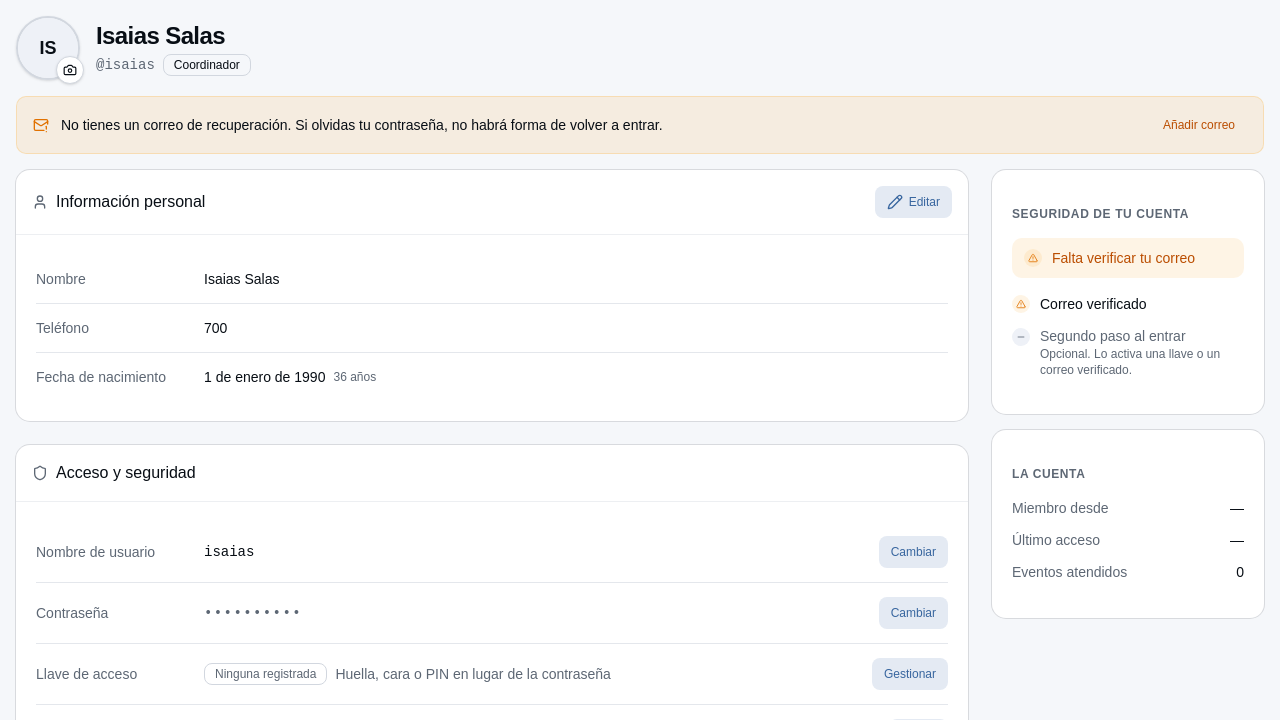
Scenario: changing your own password from the profile page › sends the current password with the new one
Click the button with aria-label "cambiar contraseña". click: click(913, 613)
box: [879, 597, 948, 629]
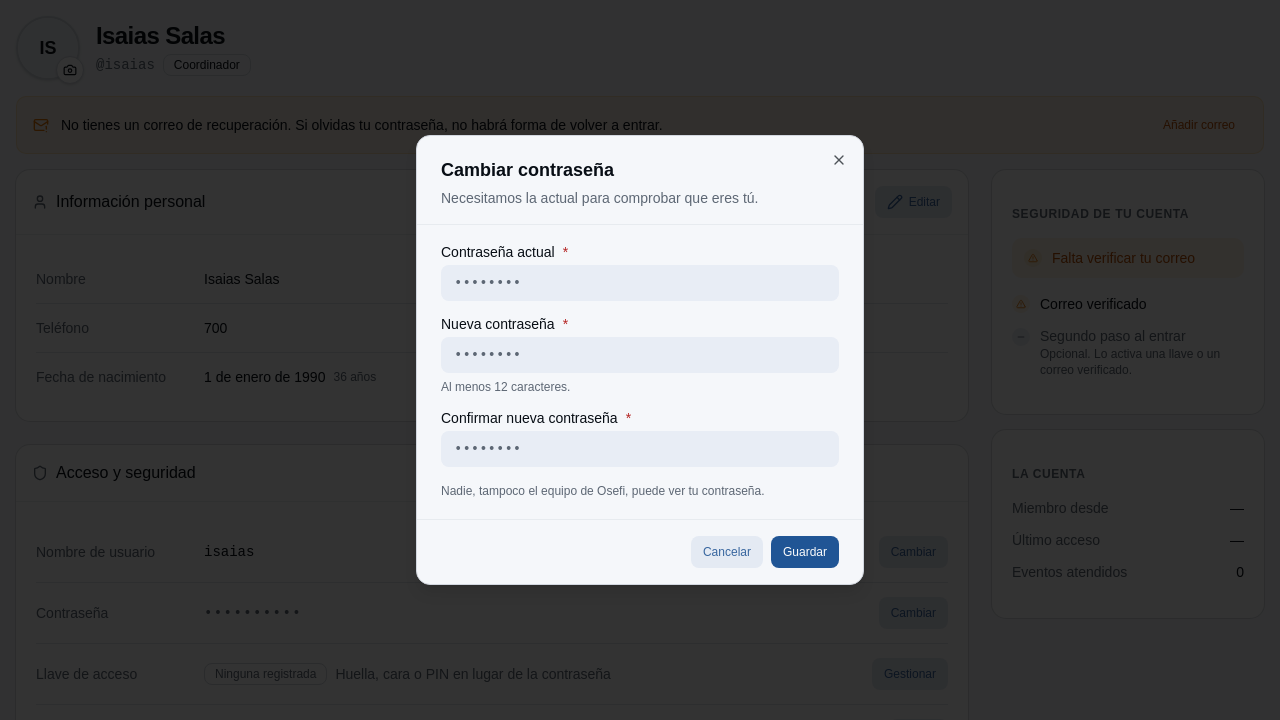
Type "la-mia" into the password field labelled "Contraseña actual *". click: (640, 283)
box: [441, 265, 839, 301]
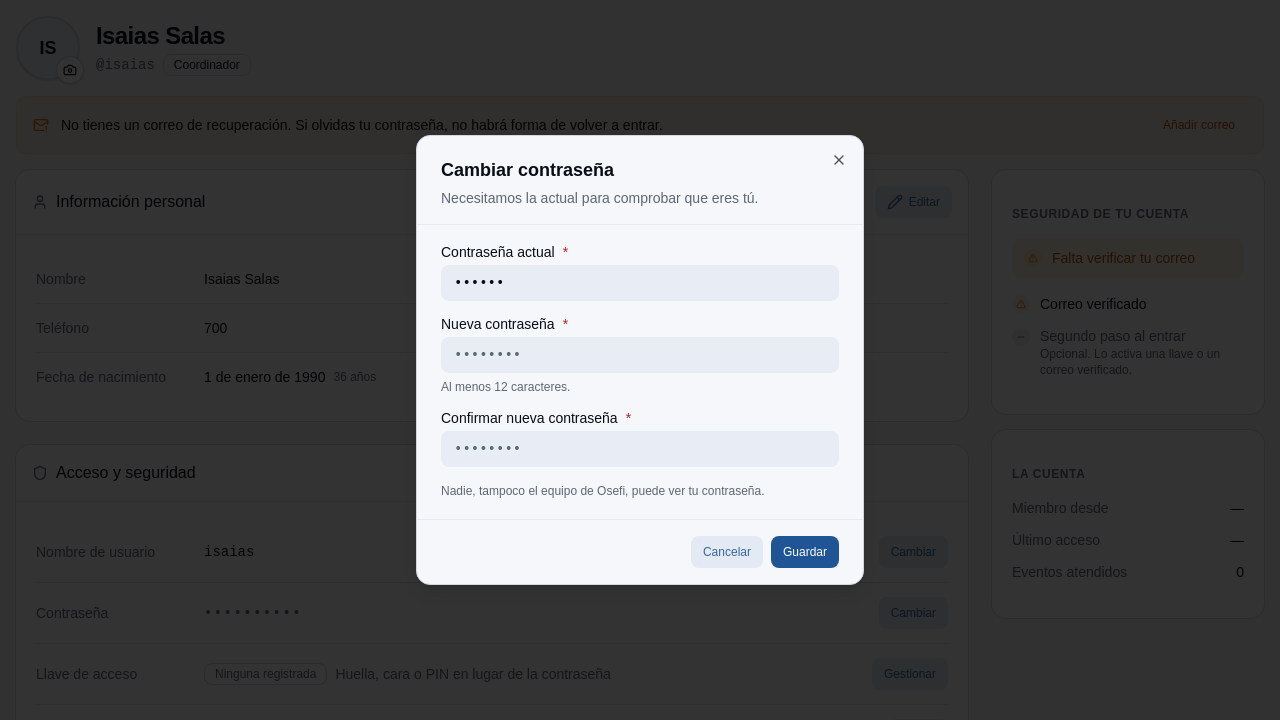
Type "una-clave-de-prueba" into the password field labelled "Nueva contraseña *". click: (640, 355)
box: [441, 337, 839, 373]
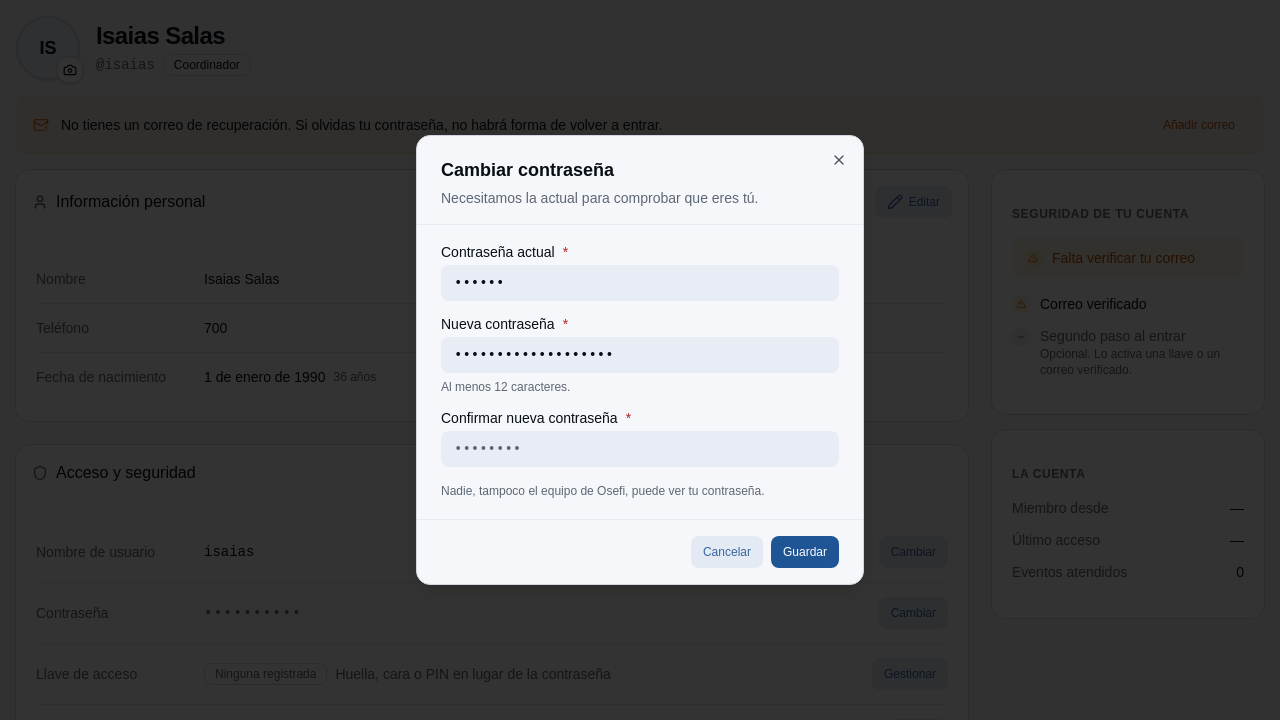
Type "una-clave-de-prueba" into the password field labelled "Confirmar nueva contraseña *". click: (640, 449)
box: [441, 431, 839, 467]
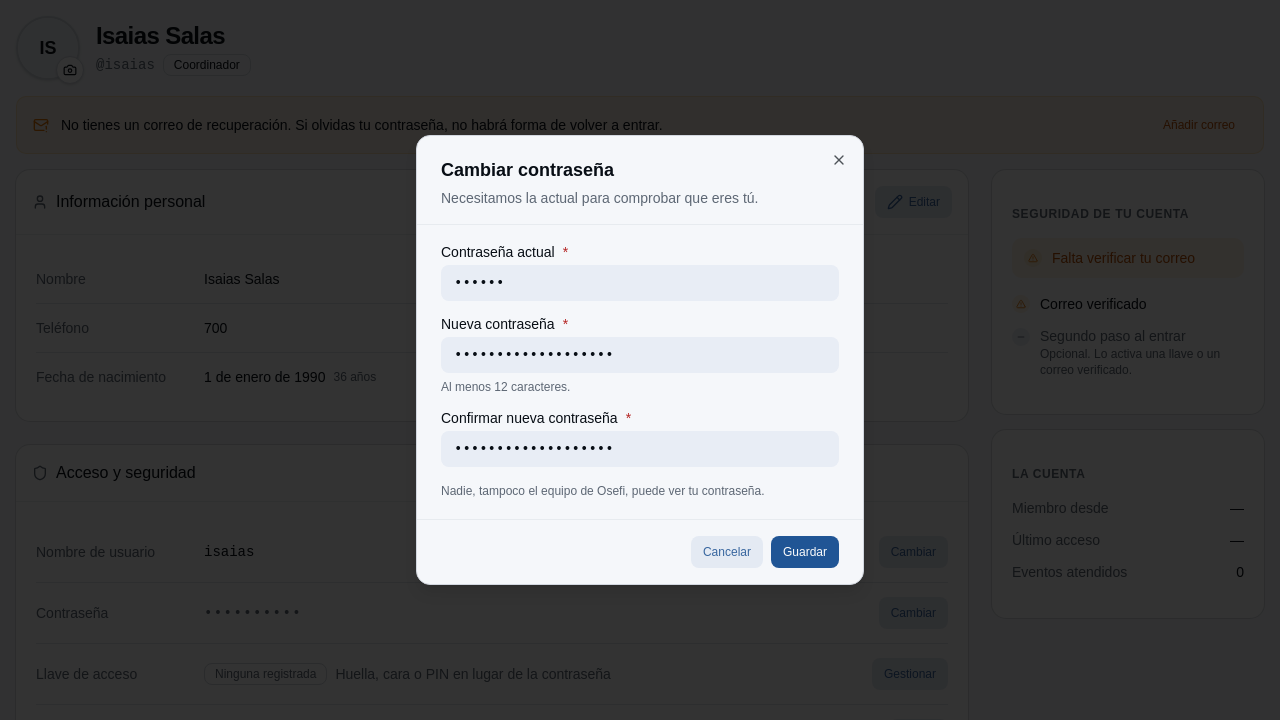
Click the button "Guardar". click: click(805, 552)
box: [771, 536, 839, 568]
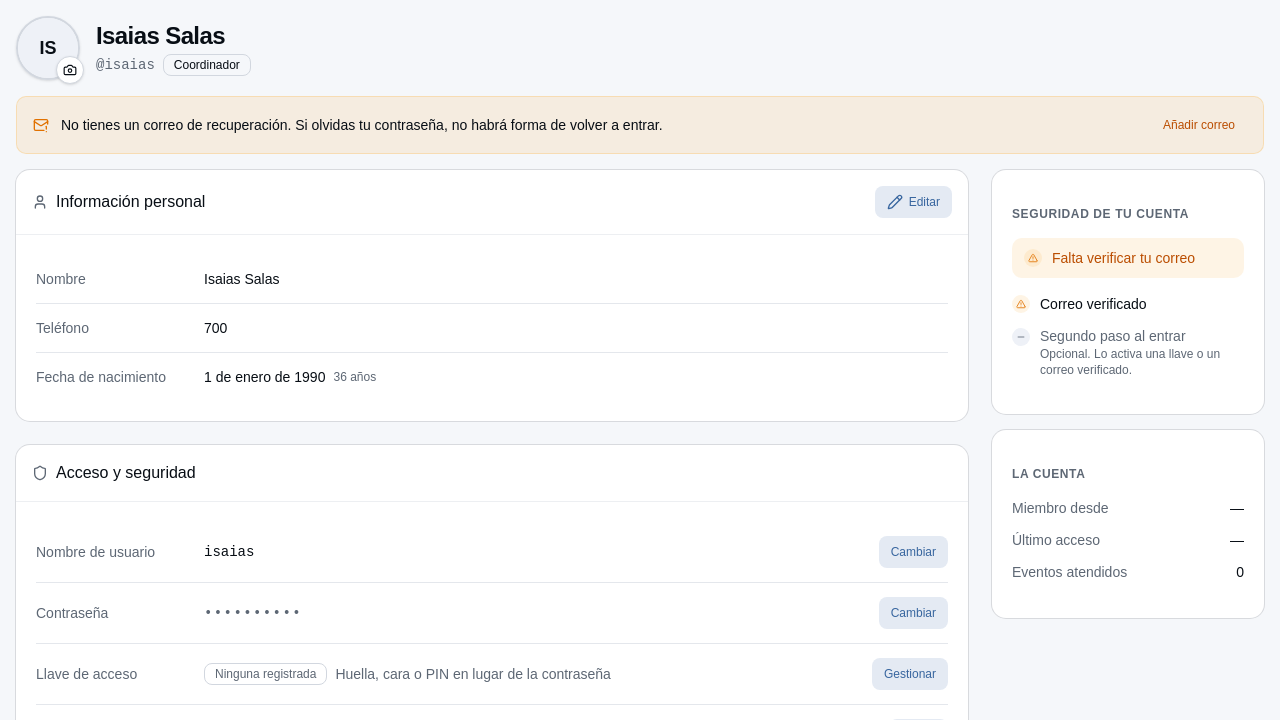
Result: the dialog is gone
